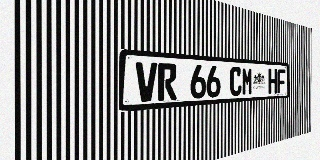6: (190, 65, 206, 99), (206, 65, 220, 98)
C: (230, 67, 242, 96)
F: (277, 69, 285, 93)
H: (268, 68, 277, 94)
M: (242, 67, 253, 95)
R: (158, 63, 177, 101)
V: (136, 62, 157, 102)
